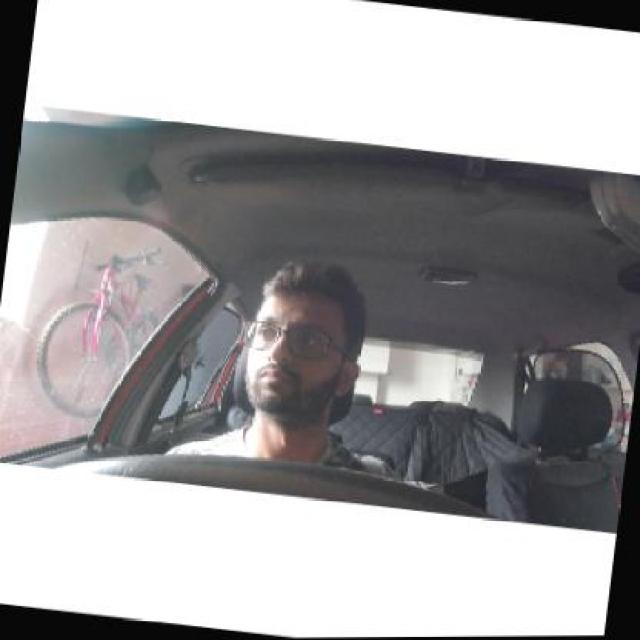person: (239, 234, 366, 421)
